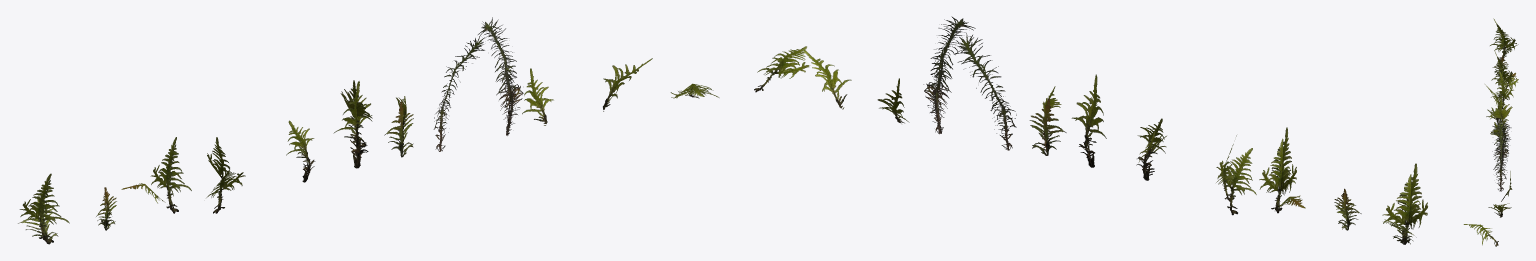
File: moss_01.glb
3 views of the same model, side by side, from view 1: azimuth 30°, elevation 25°; view 2: azimuth 150°, elevation 25°; view 3: azimuth 270°, elevation 25° (orthographic). The views are drawn at different scales.
Visible parts, largest first — view 1: moss_01_tall_b_LOD0, moss_01_a_LOD0, moss_01_f_LOD0, moss_01_c_LOD0, moss_01_tall_a_LOD0, moss_01_d_LOD0, moss_01_g_LOD0, moss_01_e_LOD0, moss_01_h_LOD0, moss_01_i_LOD0, moss_01_b_LOD0; view 2: moss_01_tall_b_LOD0, moss_01_a_LOD0, moss_01_tall_a_LOD0, moss_01_c_LOD0, moss_01_d_LOD0, moss_01_f_LOD0, moss_01_g_LOD0, moss_01_j_LOD0, moss_01_e_LOD0, moss_01_i_LOD0, moss_01_b_LOD0, moss_01_h_LOD0; view 3: moss_01_tall_b_LOD0, moss_01_a_LOD0, moss_01_c_LOD0, moss_01_d_LOD0, moss_01_f_LOD0, moss_01_tall_a_LOD0, moss_01_j_LOD0, moss_01_i_LOD0, moss_01_g_LOD0, moss_01_e_LOD0, moss_01_b_LOD0, moss_01_h_LOD0.
Boxes of the visible parts, bbox=[...] form: moss_01_tall_b_LOD0: bbox=[478, 17, 523, 135]; moss_01_a_LOD0: bbox=[18, 173, 69, 244]; moss_01_f_LOD0: bbox=[333, 80, 372, 168]; moss_01_c_LOD0: bbox=[121, 137, 191, 213]; moss_01_tall_a_LOD0: bbox=[433, 36, 484, 151]; moss_01_d_LOD0: bbox=[206, 137, 245, 213]; moss_01_g_LOD0: bbox=[384, 96, 413, 157]; moss_01_e_LOD0: bbox=[286, 120, 315, 182]; moss_01_h_LOD0: bbox=[522, 68, 553, 125]; moss_01_i_LOD0: bbox=[603, 58, 652, 111]; moss_01_b_LOD0: bbox=[96, 187, 116, 230]; moss_01_tall_b_LOD0: bbox=[923, 16, 975, 134]; moss_01_a_LOD0: bbox=[1382, 163, 1427, 244]; moss_01_tall_a_LOD0: bbox=[954, 33, 1016, 150]; moss_01_c_LOD0: bbox=[1259, 127, 1305, 213]; moss_01_d_LOD0: bbox=[1216, 135, 1256, 215]; moss_01_f_LOD0: bbox=[1071, 74, 1106, 167]; moss_01_g_LOD0: bbox=[1029, 86, 1066, 155]; moss_01_j_LOD0: bbox=[754, 46, 809, 92]; moss_01_e_LOD0: bbox=[1136, 118, 1166, 180]; moss_01_i_LOD0: bbox=[802, 48, 851, 109]; moss_01_b_LOD0: bbox=[1334, 188, 1361, 230]; moss_01_h_LOD0: bbox=[877, 78, 909, 123]; moss_01_tall_b_LOD0: bbox=[1491, 118, 1510, 191]; moss_01_a_LOD0: bbox=[1490, 18, 1518, 60]; moss_01_c_LOD0: bbox=[1491, 51, 1518, 96]; moss_01_d_LOD0: bbox=[1485, 70, 1513, 109]; moss_01_f_LOD0: bbox=[1489, 97, 1512, 139]; moss_01_tall_a_LOD0: bbox=[1494, 125, 1511, 168]; moss_01_j_LOD0: bbox=[1463, 224, 1498, 246]; moss_01_i_LOD0: bbox=[1488, 203, 1511, 217]; moss_01_g_LOD0: bbox=[1490, 122, 1506, 159]; moss_01_e_LOD0: bbox=[1486, 93, 1508, 129]; moss_01_b_LOD0: bbox=[1492, 55, 1508, 77]; moss_01_h_LOD0: bbox=[1501, 171, 1512, 201].
Size of the model in its own units: 0.2153 by 0.0404 by 0.0294.
Materials: 1 (1 with a texture image).
